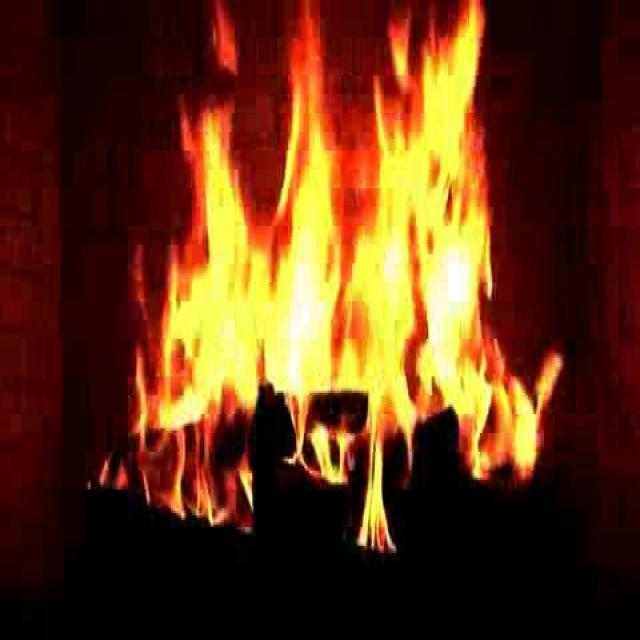fire: (146, 7, 542, 517)
